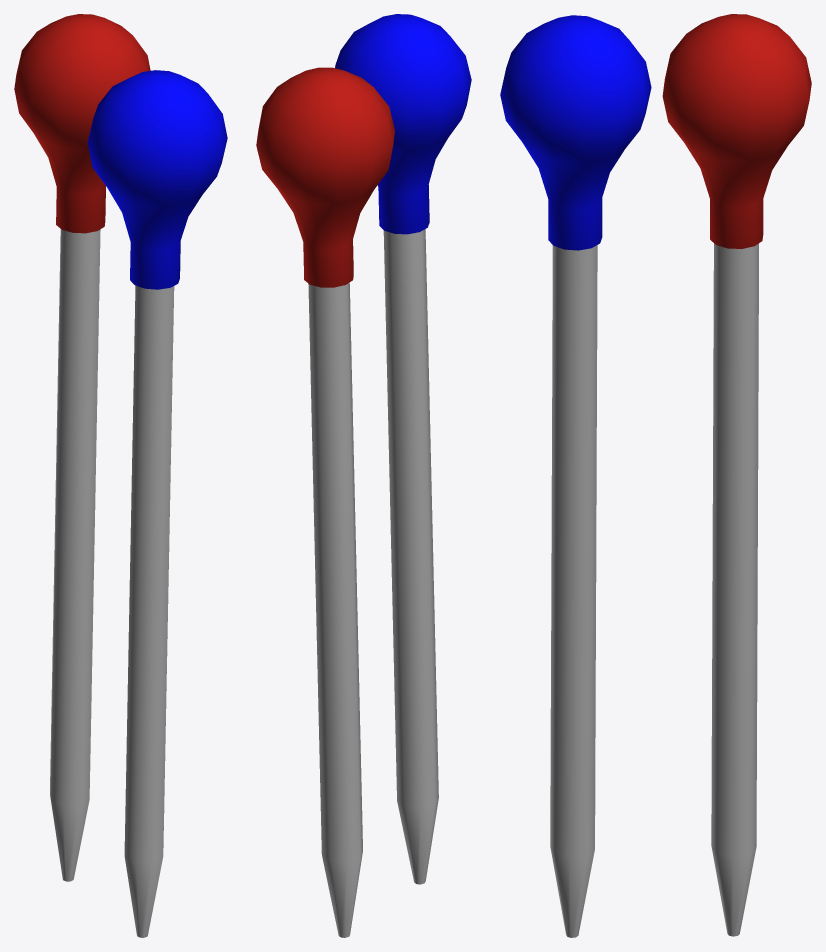
File: Pipette.fbx
3 renders of one model, left to right at view 1: azimuth 30°, elevation 25°; view 2: azimuth 150°, elevation 25°; view 3: azimuth 270°, elevation 25°, orthographic. The views are drawn at different scales.
Parts seen in each view (by area): view 1: Blue_piette_NakedSingularity, Red_piette_NakedSingularity; view 2: Red_piette_NakedSingularity, Blue_piette_NakedSingularity; view 3: Red_piette_NakedSingularity, Blue_piette_NakedSingularity.
Part boxes in pixels (x1,y1,x2,y2): Blue_piette_NakedSingularity: [87, 70, 227, 937]; Red_piette_NakedSingularity: [14, 14, 150, 881]; Red_piette_NakedSingularity: [256, 67, 394, 937]; Blue_piette_NakedSingularity: [335, 14, 471, 884]; Red_piette_NakedSingularity: [662, 14, 811, 936]; Blue_piette_NakedSingularity: [500, 15, 651, 937].
Size of the model in its own units: 8.91 by 60.19 by 18.35.
